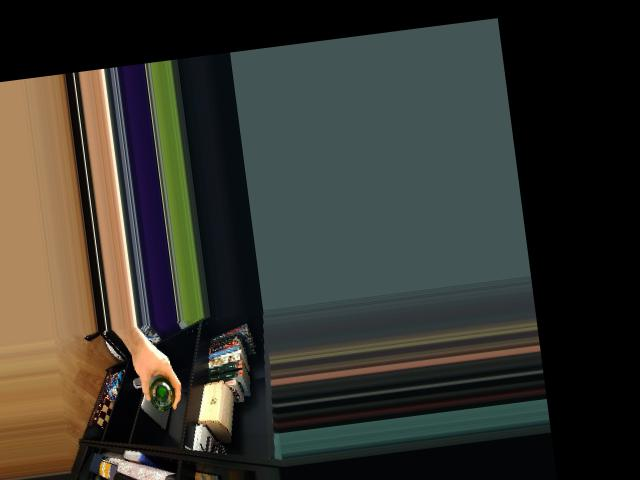beer: (146, 376, 175, 410)
